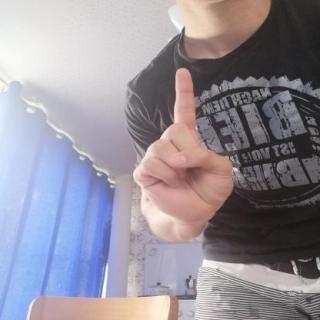BAA: (116, 60, 252, 228)
